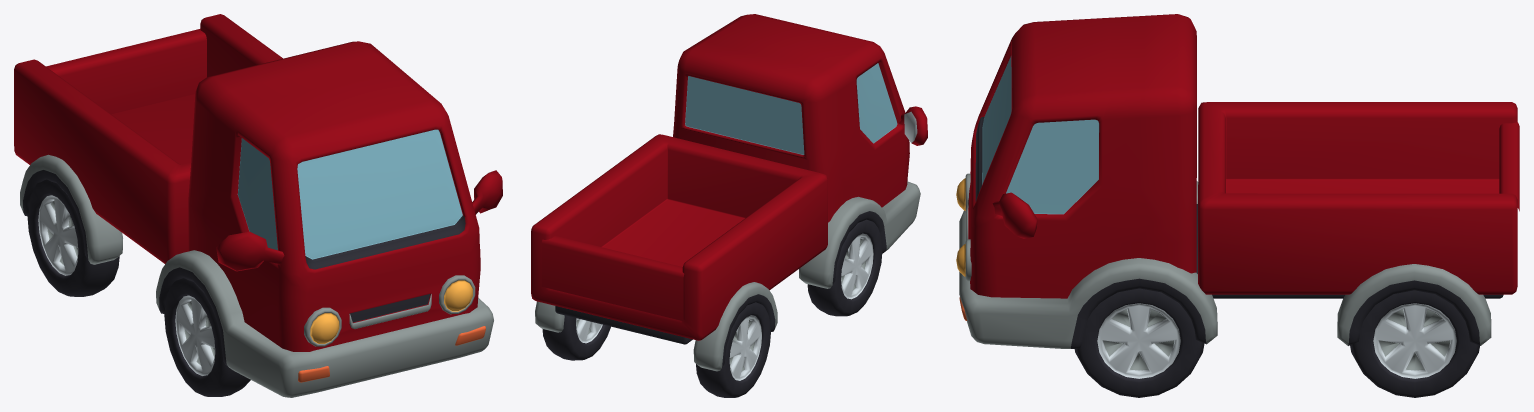
File: red_truck.fbx
3 renders of one model, left to right at view 1: azimuth 30°, elevation 25°; view 2: azimuth 150°, elevation 25°; view 3: azimuth 270°, elevation 25°, orthographic. The views are drawn at different scales.
Visible parts, largest first — view 1: red_truck, tire.006, tire.010; view 2: red_truck, tire.010, tire.006, tire.007; view 3: red_truck, tire.011, tire.007.
Boxes of the visible parts, x1,y1,x2,y2 form: red_truck: (14,14,502,397); tire.006: (27,179,119,296); tire.010: (164,278,250,396); red_truck: (531,14,927,371); tire.010: (807,219,882,316); tire.006: (696,302,770,397); tire.007: (542,315,610,360); red_truck: (956,14,1519,348); tire.011: (1074,288,1204,397); tire.007: (1350,290,1479,397).
Size of the model in its own units: 8.95 by 8.97 by 15.36.
